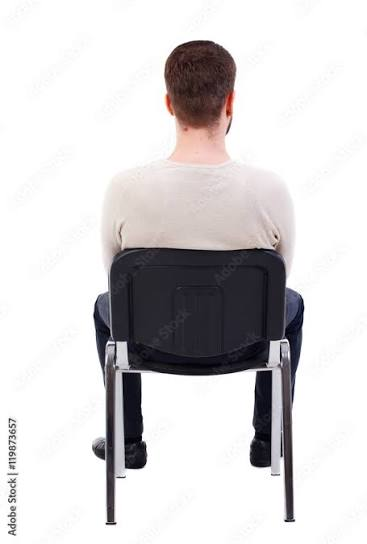distracted: (120, 41, 318, 287)
